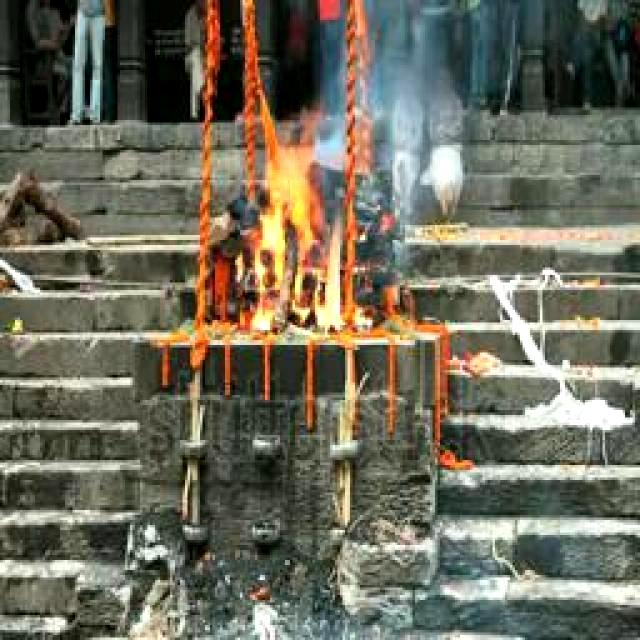fire: (253, 108, 351, 332)
